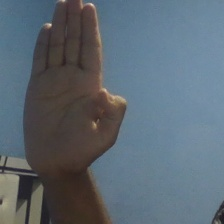B: (20, 1, 129, 178)
